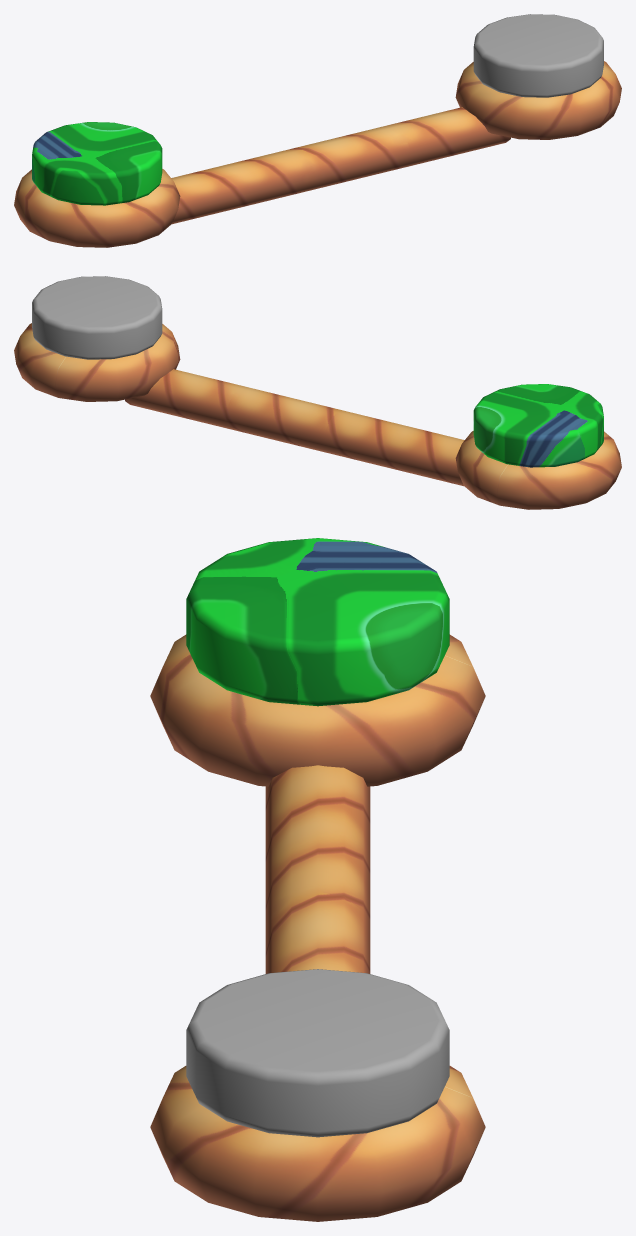
Rendered from Linked Tray.fbx.
3 views of the same model, one above another, from view 1: azimuth 30°, elevation 25°; view 2: azimuth 150°, elevation 25°; view 3: azimuth 270°, elevation 25° (orthographic). The views are drawn at different scales.
Visible parts, largest first — view 1: link2 (×2), link1 (×2), rope3; view 2: link2 (×2), link1 (×2), rope3; view 3: link1 (×2), link2 (×2), rope3.
Part boxes in pixels (x1,y1,x2,y2): link2 (×2): [14, 122, 180, 247]; link1 (×2): [455, 14, 621, 139]; rope3: [171, 107, 510, 224]; link2 (×2): [455, 384, 621, 509]; link1 (×2): [14, 276, 180, 401]; rope3: [125, 369, 464, 486]; link1 (×2): [150, 969, 485, 1221]; link2 (×2): [150, 538, 485, 786]; rope3: [265, 765, 370, 973].
Bounding box in the file's own units: 222 × 32.96 × 54.84.
